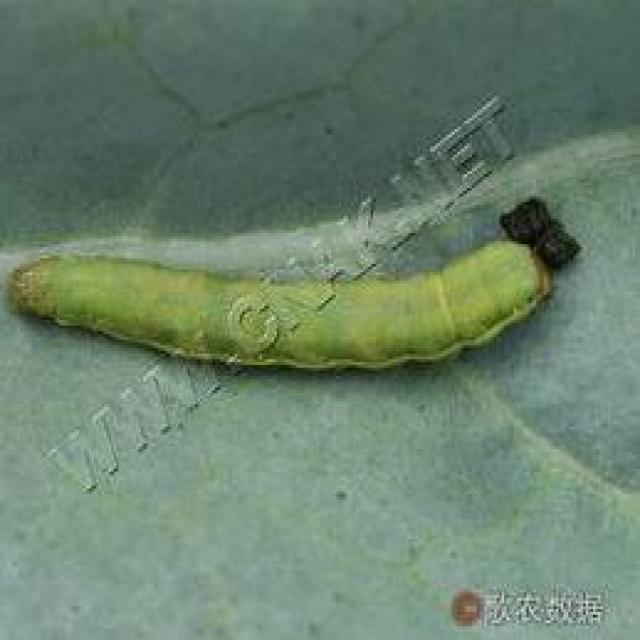BeetArmyWorm-Larva-: (8, 242, 556, 384)
